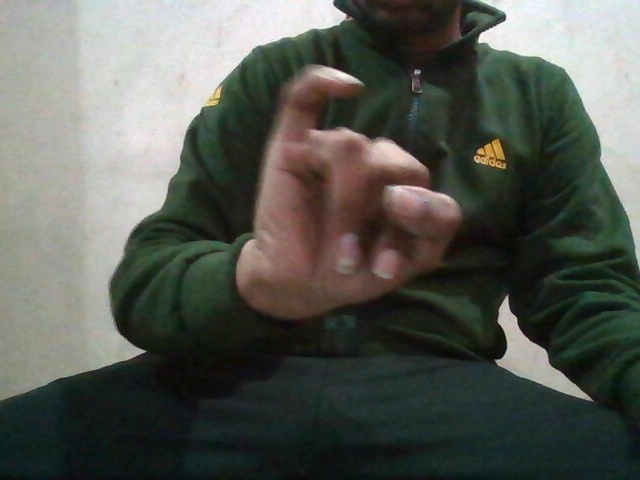J: (259, 59, 459, 315)
